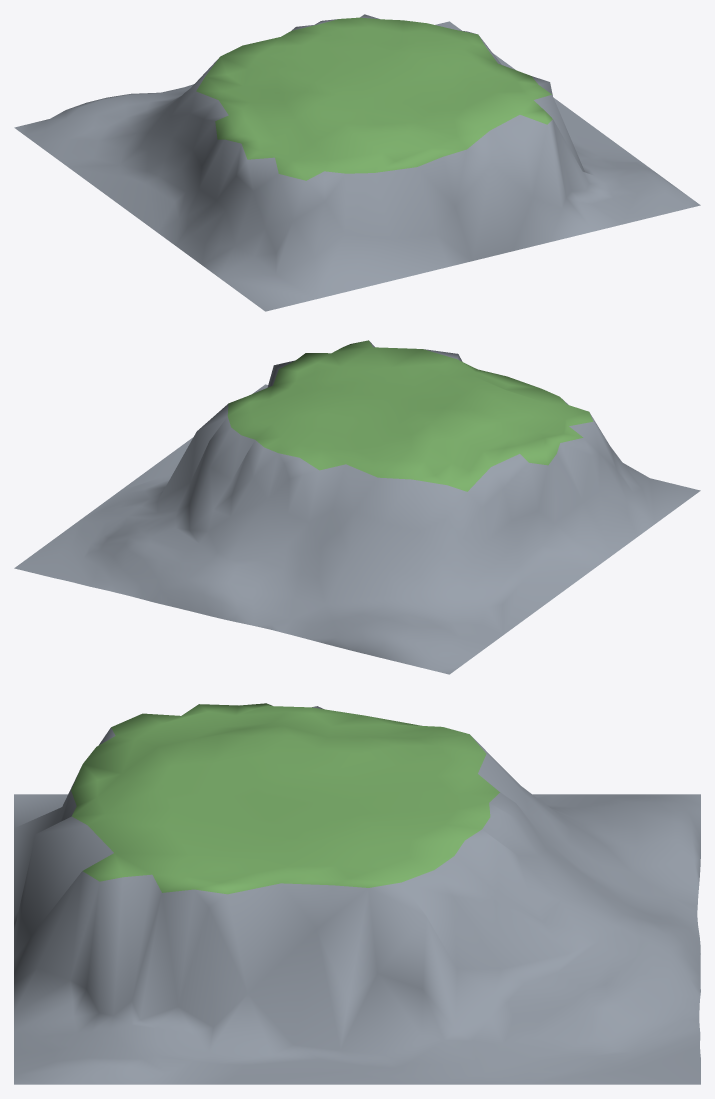
Rendered from SM_Cliffs_12.obj.
The picture shows the model from 3 angles, top to bottom: view 1: azimuth 30°, elevation 25°; view 2: azimuth 150°, elevation 25°; view 3: azimuth 270°, elevation 25°; orthographic projection. The views are drawn at different scales.
Parts seen in each view (by area): view 1: SM_Cliffs_12; view 2: SM_Cliffs_12; view 3: SM_Cliffs_12.
Boxes of the visible parts, x1=… form: SM_Cliffs_12: x1=14, y1=14, x2=700, y2=311; SM_Cliffs_12: x1=14, y1=340, x2=700, y2=674; SM_Cliffs_12: x1=14, y1=703, x2=700, y2=1084.
Bounding box in the file's own units: 14.88 × 3.64 × 14.88.
Materials: 1 (1 with a texture image).
